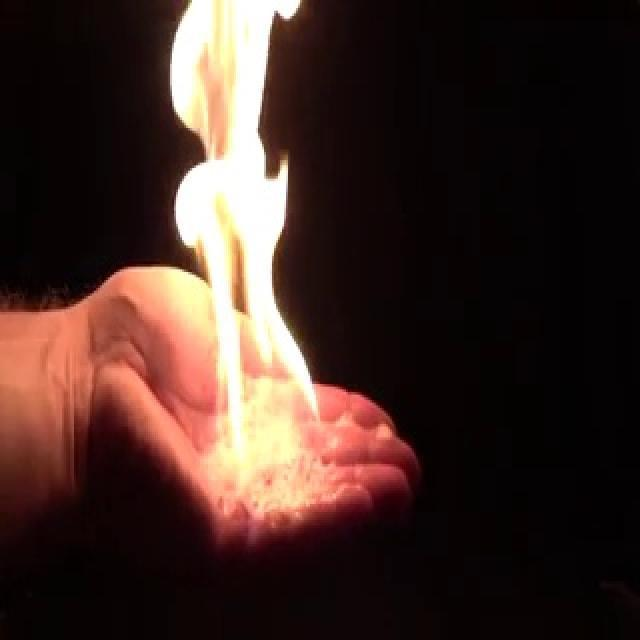fire: (165, 0, 326, 466)
